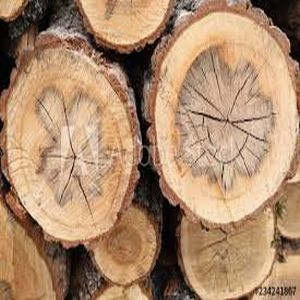log: (148, 5, 300, 233), (3, 31, 143, 249), (168, 203, 285, 300), (79, 196, 165, 285)
